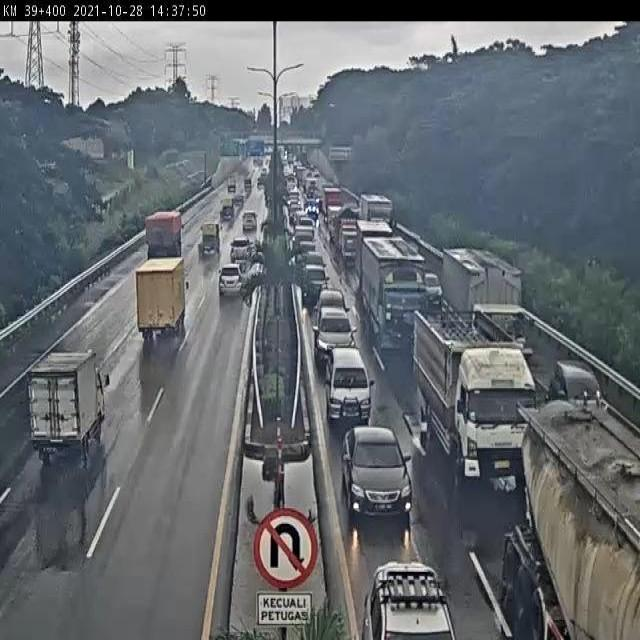truck-l-: (411, 308, 537, 483), (444, 248, 526, 363), (361, 238, 429, 346), (142, 208, 188, 264)
truck-m-: (27, 352, 108, 460), (134, 248, 191, 337)
truck-s-: (197, 220, 222, 261)
